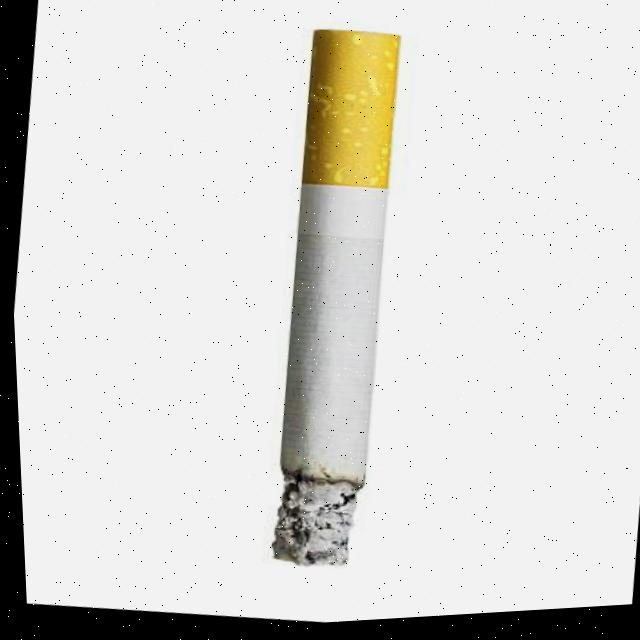cigarette: (268, 28, 398, 567)
